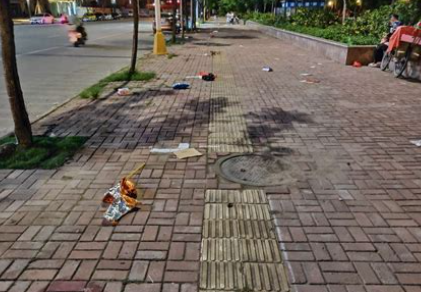garbage: (100, 163, 162, 231), (157, 134, 208, 166), (192, 67, 224, 85), (169, 77, 192, 98), (113, 85, 140, 101), (298, 68, 323, 84), (204, 47, 222, 62), (405, 133, 421, 147), (261, 63, 273, 76), (211, 27, 220, 38)
